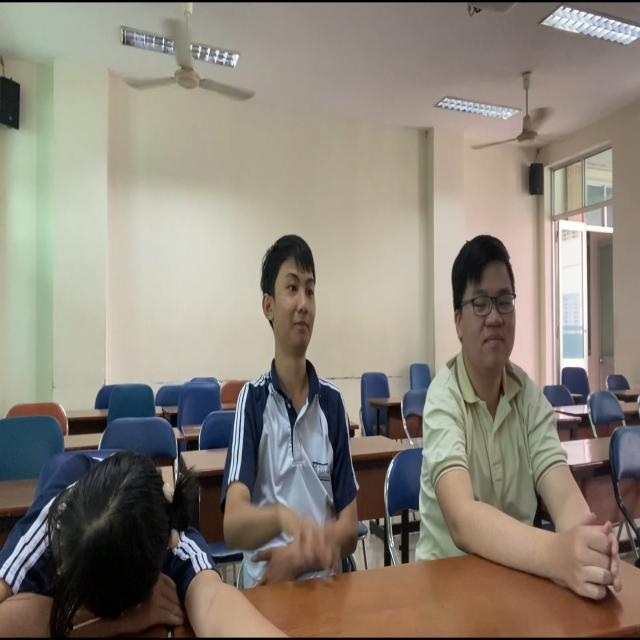sleep: (1, 438, 286, 640)
